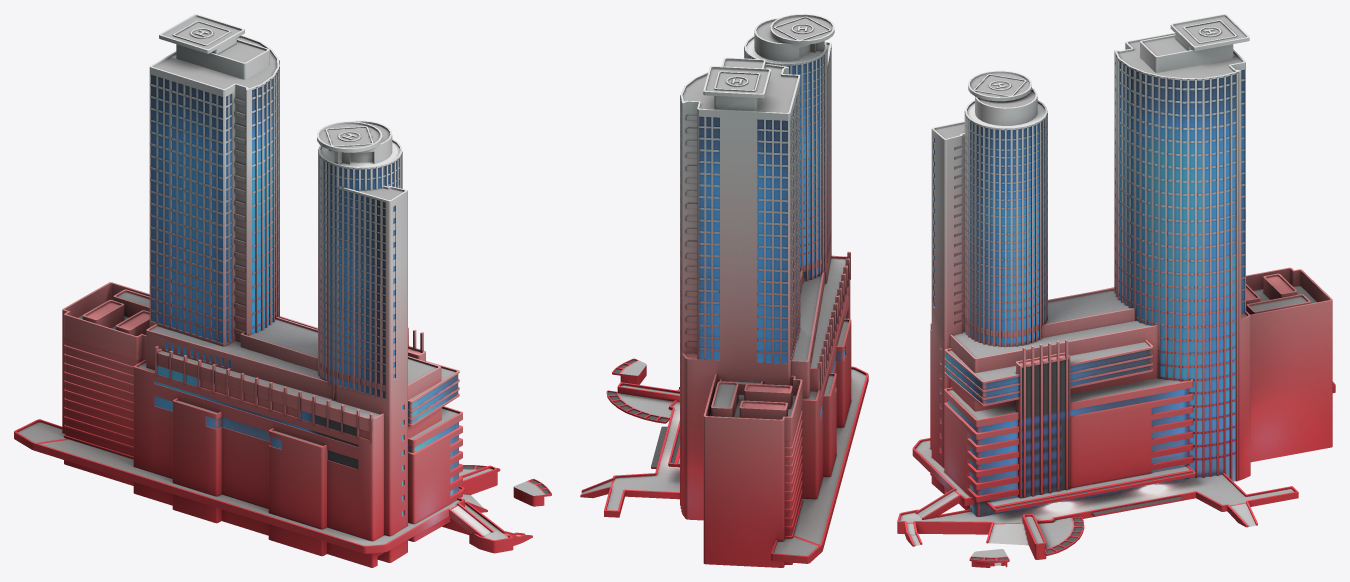
Rendered from tower.glb.
3 renders of one model, left to right at view 1: azimuth 30°, elevation 25°; view 2: azimuth 150°, elevation 25°; view 3: azimuth 270°, elevation 25°, orthographic.
Visible parts, largest first — view 1: JPN_33791550297185450_jr-central-towers.001; view 2: JPN_33791550297185450_jr-central-towers.001; view 3: JPN_33791550297185450_jr-central-towers.001.
Boxes of the visible parts, x1,y1,x2,y2 form: JPN_33791550297185450_jr-central-towers.001: (14,14,551,567); JPN_33791550297185450_jr-central-towers.001: (580,14,868,567); JPN_33791550297185450_jr-central-towers.001: (897,14,1335,567).
Size of the model in its own units: 213 by 246 by 227.
1 material, 1 textured.
